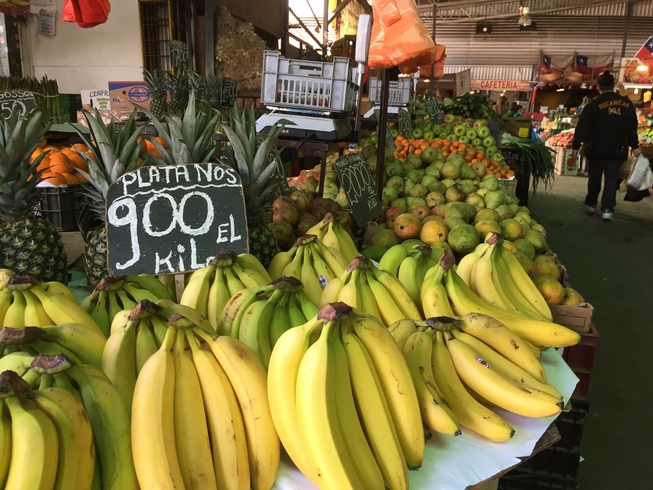precio: (103, 168, 252, 274)
